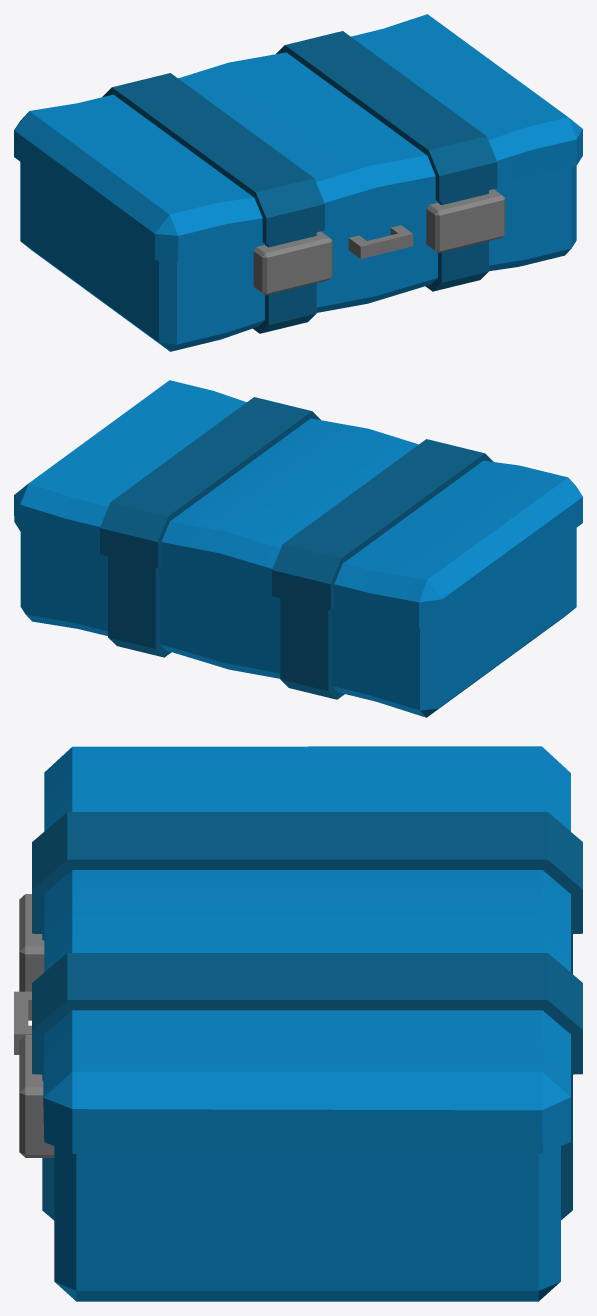
File: model_polytope_suitcase01.fbx
3 renders of one model, top to bottom at view 1: azimuth 30°, elevation 25°; view 2: azimuth 150°, elevation 25°; view 3: azimuth 270°, elevation 25°, orthographic. The views are drawn at different scales.
Visible parts, largest first — view 1: model_polytope_suitcase01; view 2: model_polytope_suitcase01; view 3: model_polytope_suitcase01.
Boxes of the visible parts, bbox=[...] form: model_polytope_suitcase01: bbox=[14, 14, 582, 351]; model_polytope_suitcase01: bbox=[14, 380, 582, 717]; model_polytope_suitcase01: bbox=[14, 746, 582, 1301].
Bounding box in the file's own units: 107 × 34.08 × 73.37.
